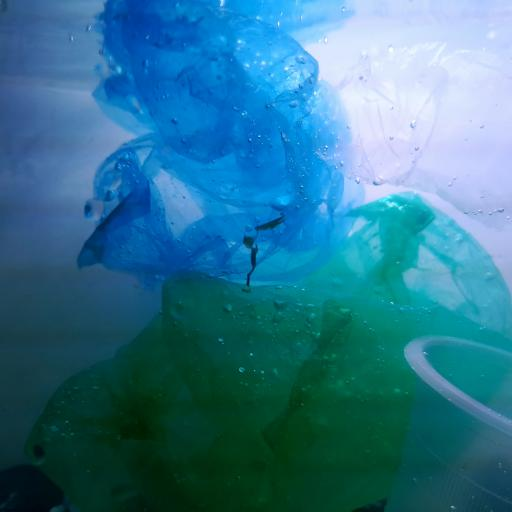plastic_bag: (30, 202, 508, 506), (76, 0, 355, 289), (317, 41, 512, 212)
plastic_cup: (382, 331, 512, 512)
